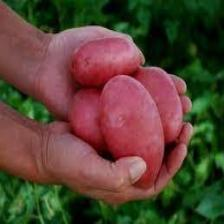Defected potato: (96, 75, 167, 191), (68, 85, 136, 158), (68, 35, 144, 87)
